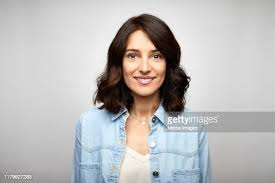person: (108, 14, 181, 99)
